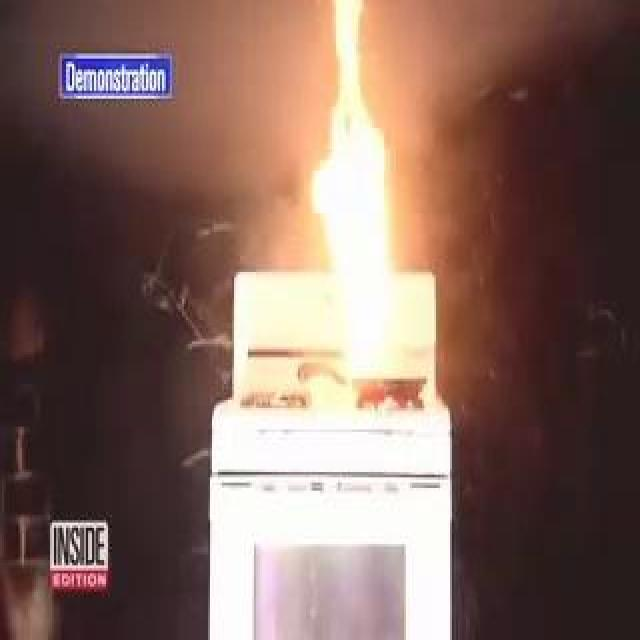Fire: (292, 2, 408, 386)
